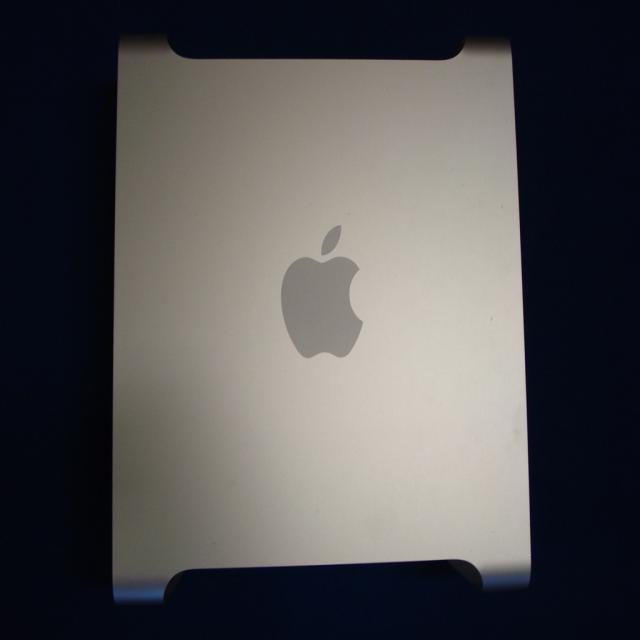Healty Apple: (280, 223, 364, 360)
